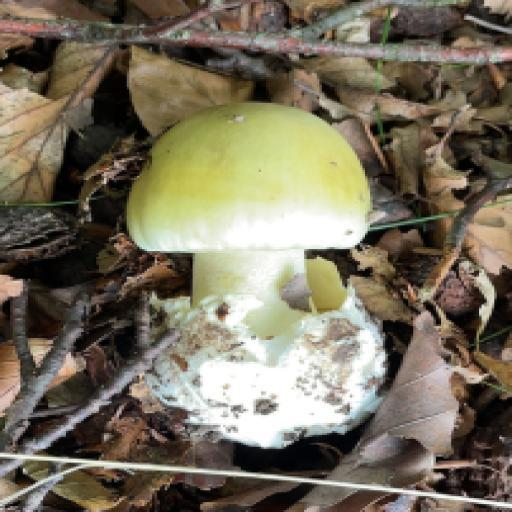mushroom: (90, 47, 406, 363)
